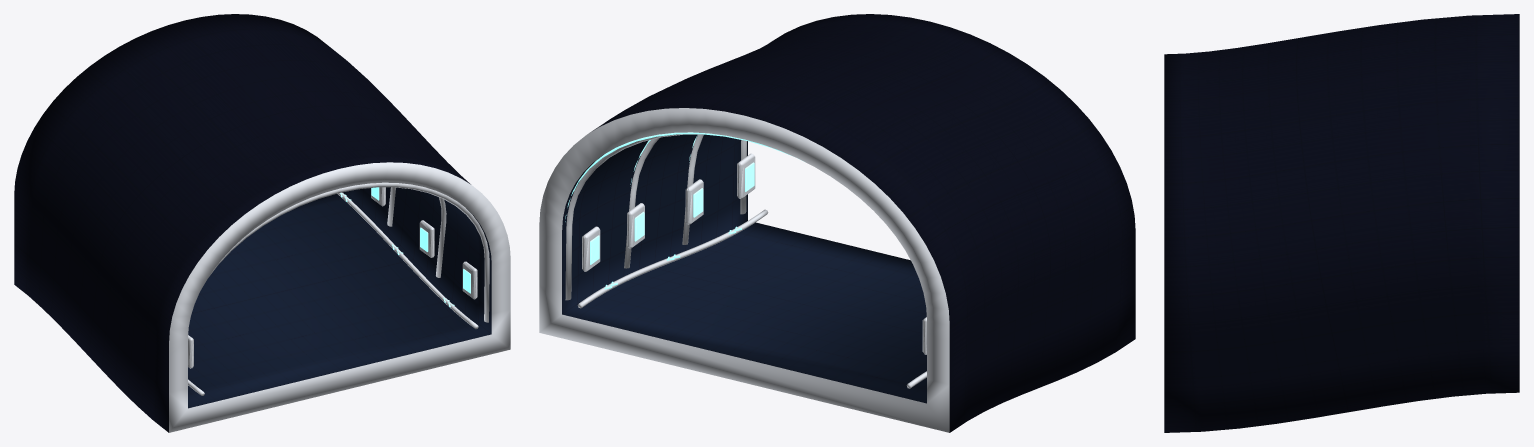
Rendered from grade_up_lod1.glb.
The picture shows the model from 3 angles, left to right: view 1: azimuth 30°, elevation 25°; view 2: azimuth 150°, elevation 25°; view 3: azimuth 270°, elevation 25°; orthographic projection. The views are drawn at different scales.
Parts seen in each view (by area): view 1: TunnelGeometry.001; view 2: TunnelGeometry.001; view 3: TunnelGeometry.001.
Boxes of the visible parts, x1,y1,x2,y2 form: TunnelGeometry.001: (14,14,510,432); TunnelGeometry.001: (539,14,1135,432); TunnelGeometry.001: (1164,14,1519,432).
Bounding box in the file's own units: 15.3 × 11.02 × 12.
Materials: 4 (2 with a texture image).
